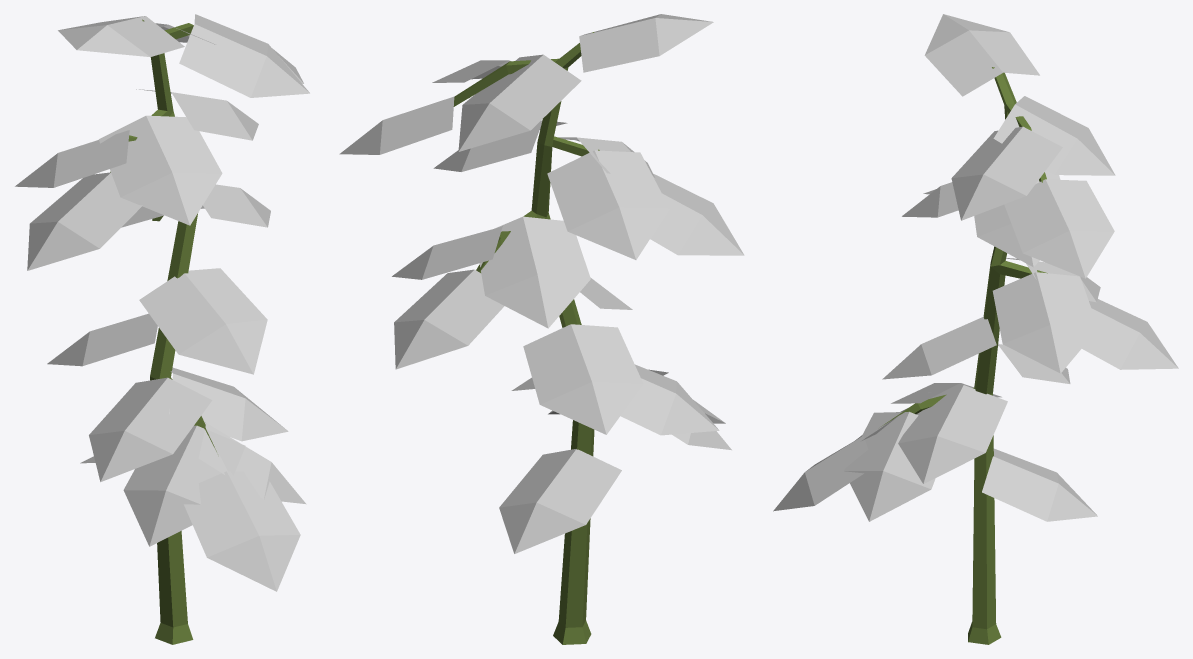
File: SM_Envr_Nature_Farm_Plant_Generic_Large.fbx
3 views of the same model, side by side, from view 1: azimuth 30°, elevation 25°; view 2: azimuth 150°, elevation 25°; view 3: azimuth 270°, elevation 25° (orthographic). The views are drawn at different scales.
Parts seen in each view (by area): view 1: SM_Envr_Nature_Farm_Plant_Generic_Large; view 2: SM_Envr_Nature_Farm_Plant_Generic_Large; view 3: SM_Envr_Nature_Farm_Plant_Generic_Large.
Boxes of the visible parts, bbox=[...] form: SM_Envr_Nature_Farm_Plant_Generic_Large: bbox=[15, 14, 309, 644]; SM_Envr_Nature_Farm_Plant_Generic_Large: bbox=[339, 14, 744, 644]; SM_Envr_Nature_Farm_Plant_Generic_Large: bbox=[773, 14, 1178, 644].
Size of the model in its own units: 48.29 by 86.75 by 55.61.
